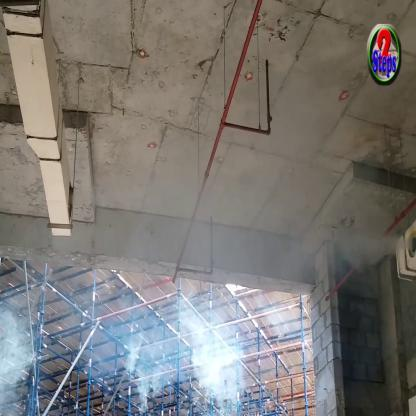smoke: (178, 291, 248, 416), (106, 295, 174, 412), (1, 299, 40, 416), (348, 208, 412, 260)
